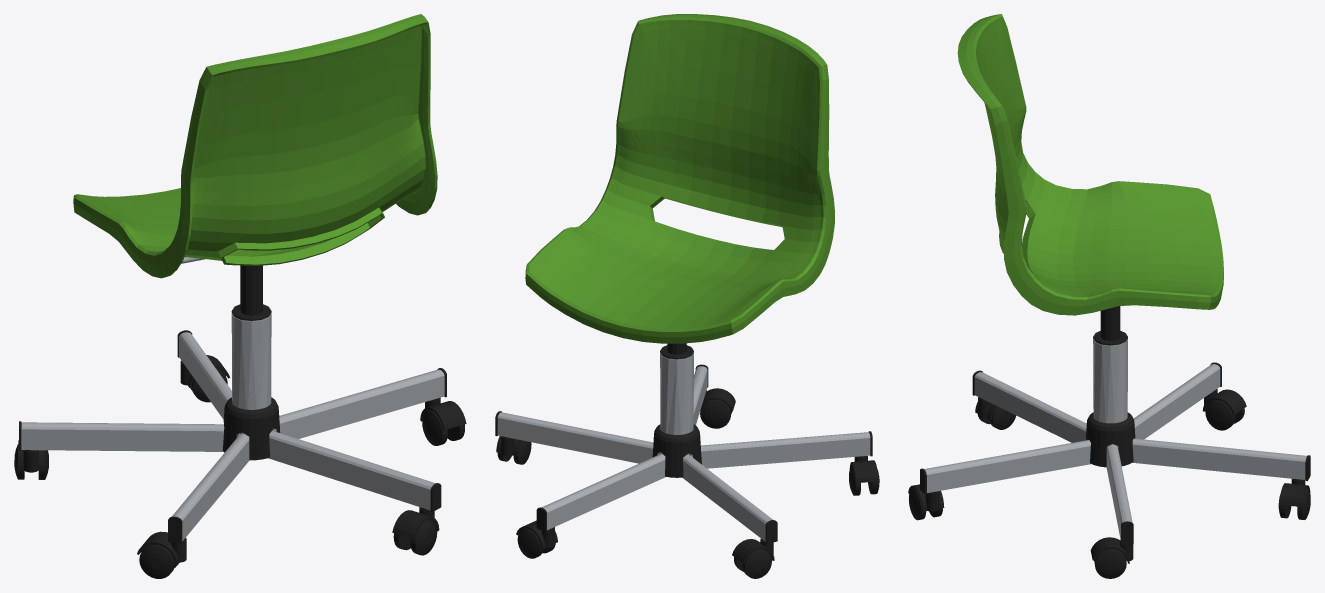
The picture shows the model from 3 angles, left to right: view 1: azimuth 30°, elevation 25°; view 2: azimuth 150°, elevation 25°; view 3: azimuth 270°, elevation 25°; orthographic projection. The views are drawn at different scales.
Parts seen in each view (by area): view 1: Mesh2 Group2 SNILLE_IKEA1 Model, Mesh8 Group6 SNILLE_IKEA1 Model, Mesh7 Group5 SNILLE_IKEA1 Model, Mesh1 Group1 SNILLE_IKEA1 Model, Mesh3 Group3 SNILLE_IKEA1 Model, Mesh20 ROULETTE4 SNILLE_IKEA1 Model, Mesh15 ROULETTE3 SNILLE_IKEA1 Model, Mesh12 ROULETTE2 SNILLE_IKEA1 Model, Mesh14 ROULETTE2 SNILLE_IKEA1 Model, Mesh18 ROULETTE4 SNILLE_IKEA1 Model, Mesh16 ROULETTE3 SNILLE_IKEA1 Model, Mesh9 ROULETTE1 SNILLE_IKEA1 Model; view 2: Mesh2 Group2 SNILLE_IKEA1 Model, Mesh8 Group6 SNILLE_IKEA1 Model, Mesh7 Group5 SNILLE_IKEA1 Model, Mesh1 Group1 SNILLE_IKEA1 Model, Mesh13 ROULETTE2 SNILLE_IKEA1 Model, Mesh11 ROULETTE1 SNILLE_IKEA1 Model, Mesh18 ROULETTE4 SNILLE_IKEA1 Model, Mesh9 ROULETTE1 SNILLE_IKEA1 Model, Mesh23 ROULETTE5 SNILLE_IKEA1 Model; view 3: Mesh2 Group2 SNILLE_IKEA1 Model, Mesh8 Group6 SNILLE_IKEA1 Model, Mesh7 Group5 SNILLE_IKEA1 Model, Mesh1 Group1 SNILLE_IKEA1 Model, Mesh3 Group3 SNILLE_IKEA1 Model, Mesh17 ROULETTE3 SNILLE_IKEA1 Model, Mesh10 ROULETTE1 SNILLE_IKEA1 Model, Mesh21 ROULETTE5 SNILLE_IKEA1 Model, Mesh9 ROULETTE1 SNILLE_IKEA1 Model, Mesh15 ROULETTE3 SNILLE_IKEA1 Model, Mesh12 ROULETTE2 SNILLE_IKEA1 Model.
Part boxes in pixels (x1,y1,x2,y2): Mesh2 Group2 SNILLE_IKEA1 Model: (73,14,437,278); Mesh8 Group6 SNILLE_IKEA1 Model: (19,330,446,543); Mesh7 Group5 SNILLE_IKEA1 Model: (231,313,271,409); Mesh1 Group1 SNILLE_IKEA1 Model: (222,397,280,460); Mesh3 Group3 SNILLE_IKEA1 Model: (231,265,271,320); Mesh20 ROULETTE4 SNILLE_IKEA1 Model: (139,544,175,578); Mesh15 ROULETTE3 SNILLE_IKEA1 Model: (420,397,466,430); Mesh12 ROULETTE2 SNILLE_IKEA1 Model: (392,507,439,539); Mesh14 ROULETTE2 SNILLE_IKEA1 Model: (410,519,437,555); Mesh18 ROULETTE4 SNILLE_IKEA1 Model: (137,531,186,564); Mesh16 ROULETTE3 SNILLE_IKEA1 Model: (422,410,447,445); Mesh9 ROULETTE1 SNILLE_IKEA1 Model: (18,440,44,472); Mesh2 Group2 SNILLE_IKEA1 Model: (525,14,834,343); Mesh8 Group6 SNILLE_IKEA1 Model: (495,364,872,543); Mesh7 Group5 SNILLE_IKEA1 Model: (660,353,693,434); Mesh1 Group1 SNILLE_IKEA1 Model: (652,424,701,477); Mesh13 ROULETTE2 SNILLE_IKEA1 Model: (700,399,731,428); Mesh11 ROULETTE1 SNILLE_IKEA1 Model: (742,549,771,578); Mesh18 ROULETTE4 SNILLE_IKEA1 Model: (849,456,878,483); Mesh9 ROULETTE1 SNILLE_IKEA1 Model: (732,539,774,563); Mesh23 ROULETTE5 SNILLE_IKEA1 Model: (517,528,543,558); Mesh2 Group2 SNILLE_IKEA1 Model: (957,14,1223,315); Mesh8 Group6 SNILLE_IKEA1 Model: (920,362,1310,544); Mesh7 Group5 SNILLE_IKEA1 Model: (1093,339,1127,423); Mesh1 Group1 SNILLE_IKEA1 Model: (1085,412,1135,467); Mesh3 Group3 SNILLE_IKEA1 Model: (1093,306,1127,345); Mesh17 ROULETTE3 SNILLE_IKEA1 Model: (1094,549,1126,578); Mesh10 ROULETTE1 SNILLE_IKEA1 Model: (1205,399,1235,430); Mesh21 ROULETTE5 SNILLE_IKEA1 Model: (1279,478,1310,506); Mesh9 ROULETTE1 SNILLE_IKEA1 Model: (1202,389,1246,415); Mesh15 ROULETTE3 SNILLE_IKEA1 Model: (1090,537,1133,563); Mesh12 ROULETTE2 SNILLE_IKEA1 Model: (908,484,944,511).
Size of the model in its own units: 0.5746 by 0.7237 by 0.5974.
